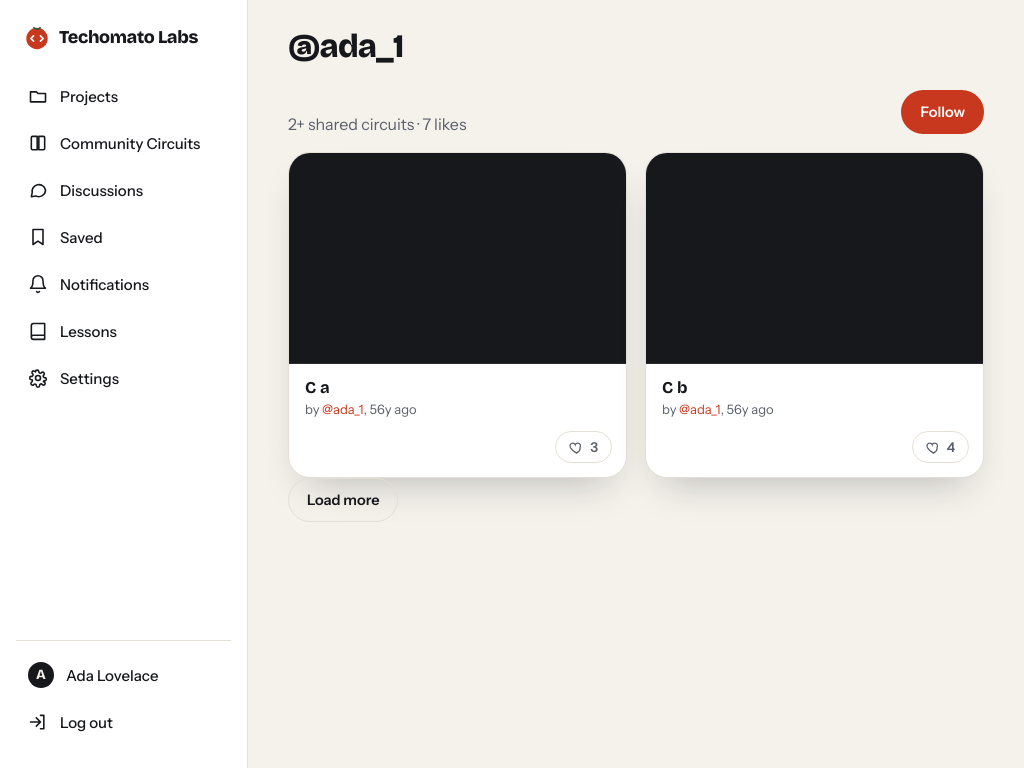
it: ProfilePage › lists the author's circuits with a like total, pages, and lets you follow
Later steps or results of the test are not shown.
Expected: the text "2+ shared circuits · 7 likes" is shown, [288,114,466,134]
Click the button "Load more" at {"x": 343, "y": 500}, box [288,478,398,522]
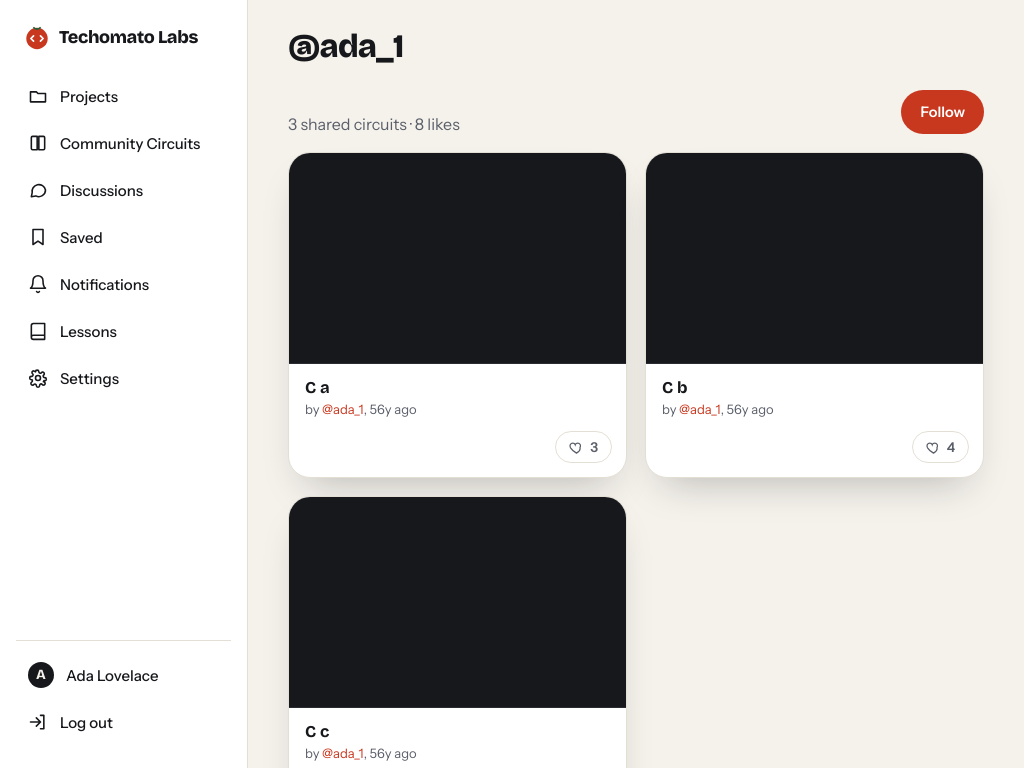
Now the text "3 shared circuits · 8 likes" is shown, box [288,114,460,134]
